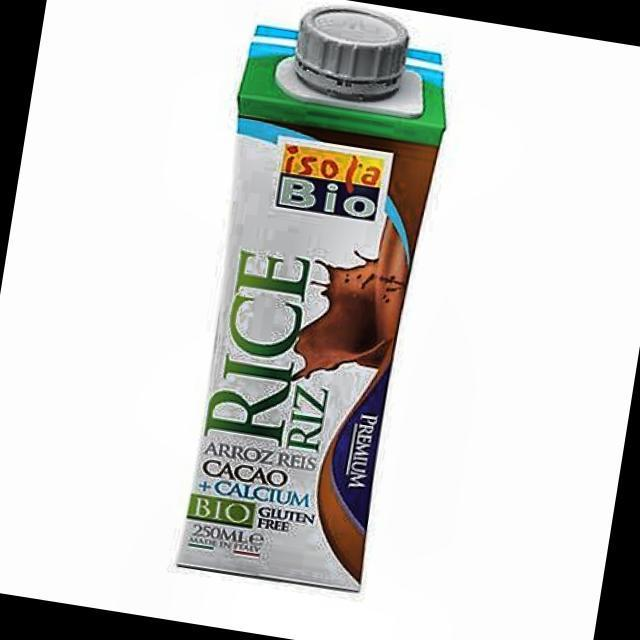cardboard: (162, 14, 458, 596)
